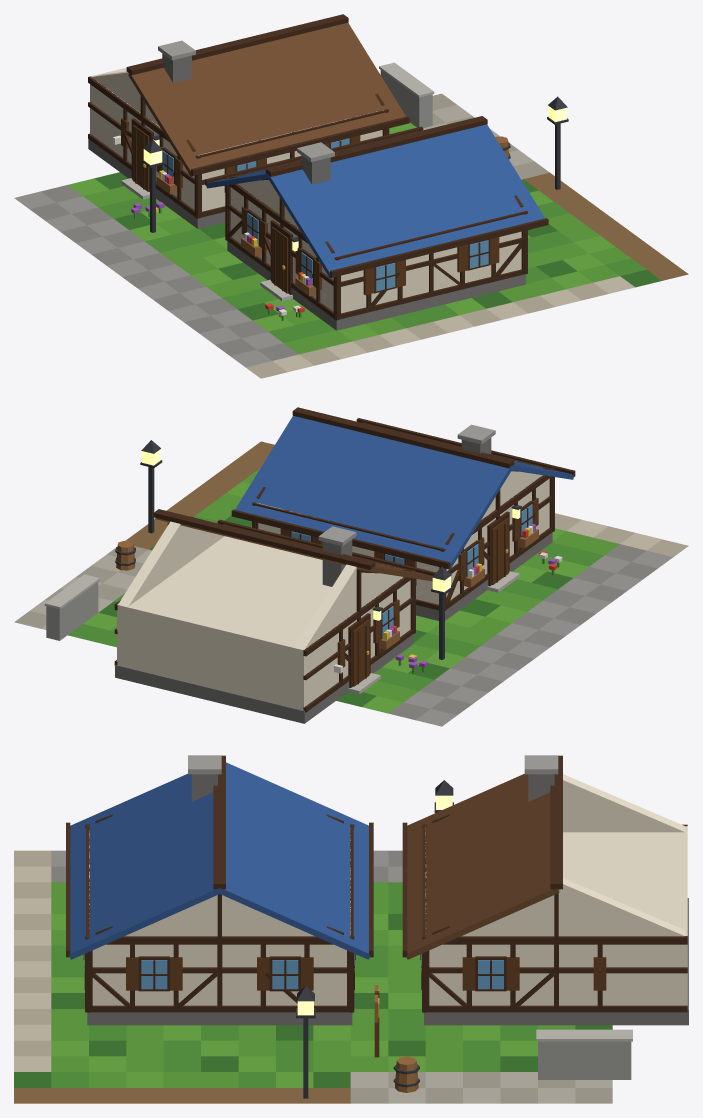
Rendered from chunk_2_7.glb.
3 renders of one model, top to bottom at view 1: azimuth 30°, elevation 25°; view 2: azimuth 150°, elevation 25°; view 3: azimuth 270°, elevation 25°, orthographic. The views are drawn at different scales.
Visible parts, largest first — view 1: chunk_2_7; view 2: chunk_2_7; view 3: chunk_2_7.
Boxes of the visible parts, x1=… form: chunk_2_7: x1=14, y1=14, x2=688, y2=378; chunk_2_7: x1=14, y1=407, x2=688, y2=726; chunk_2_7: x1=14, y1=755, x2=688, y2=1103.
Size of the model in its own units: 16 by 4.94 by 18.04.
